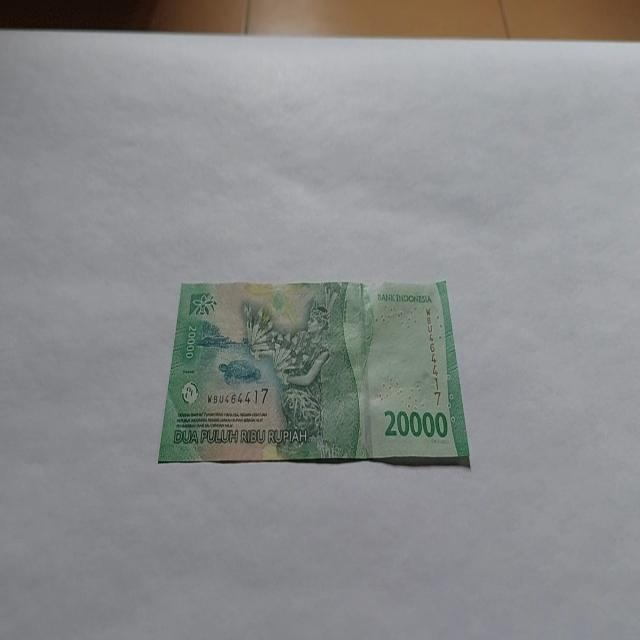dua puluh ribu rupiah: (157, 276, 471, 468)
